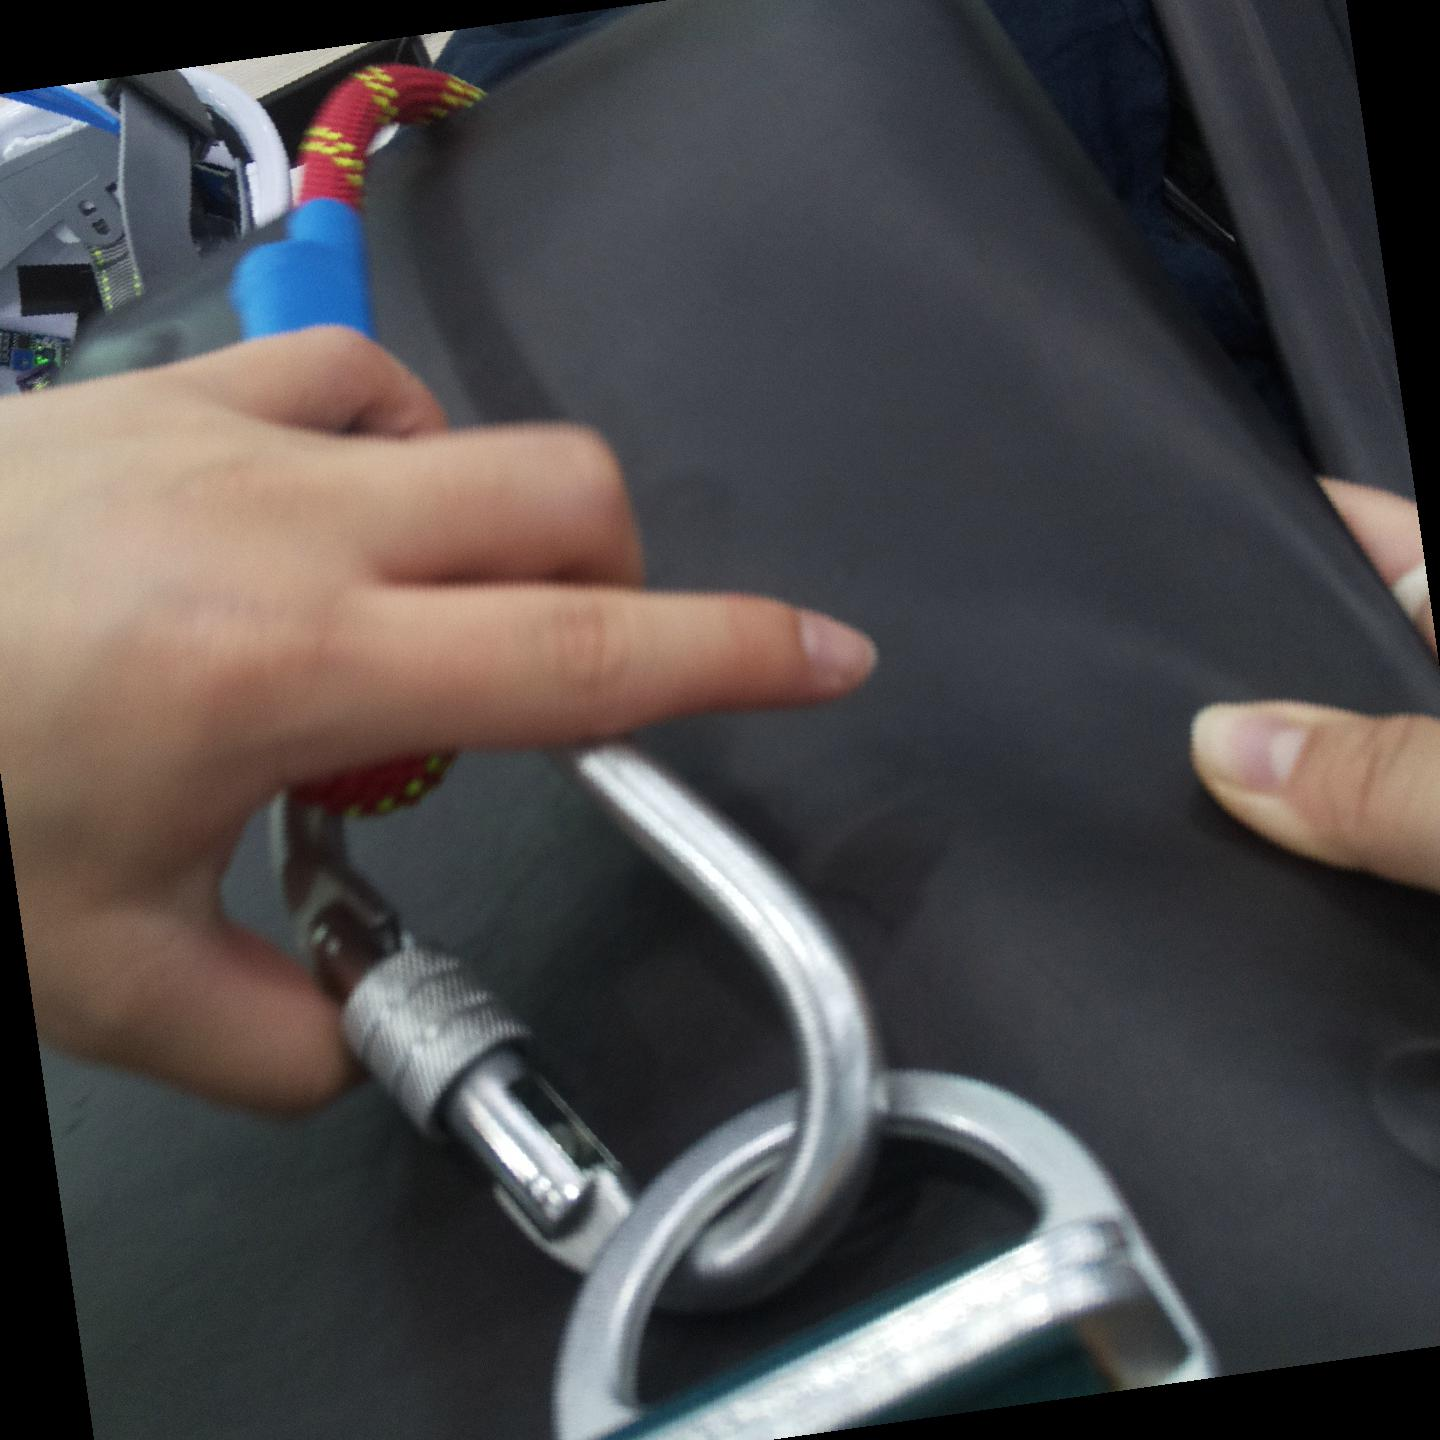SUCCESS: (431, 844, 1218, 1402)
